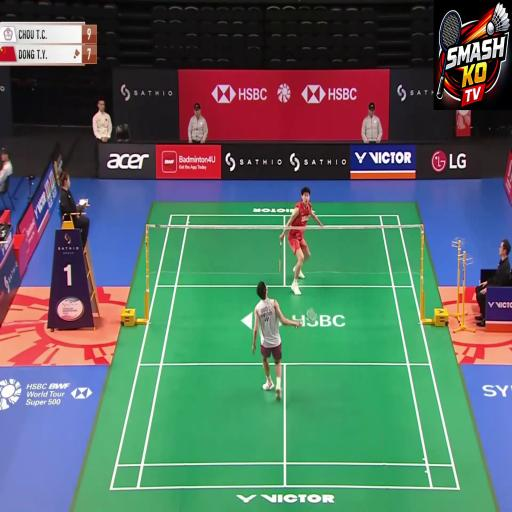player: (232, 269, 304, 441), (262, 155, 334, 302)
